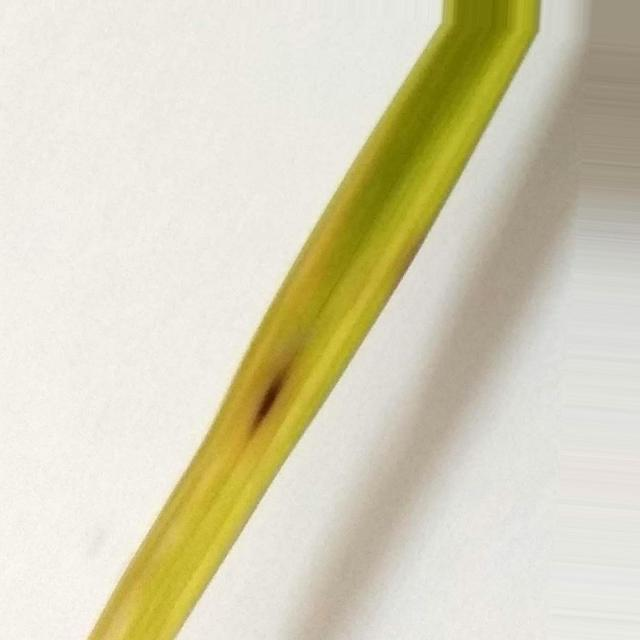Brown_Spot: (252, 365, 289, 428)
